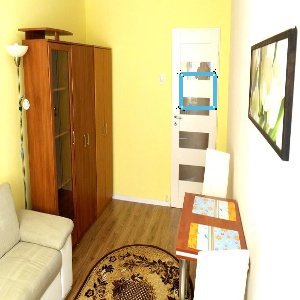square: (177, 70, 221, 112)
